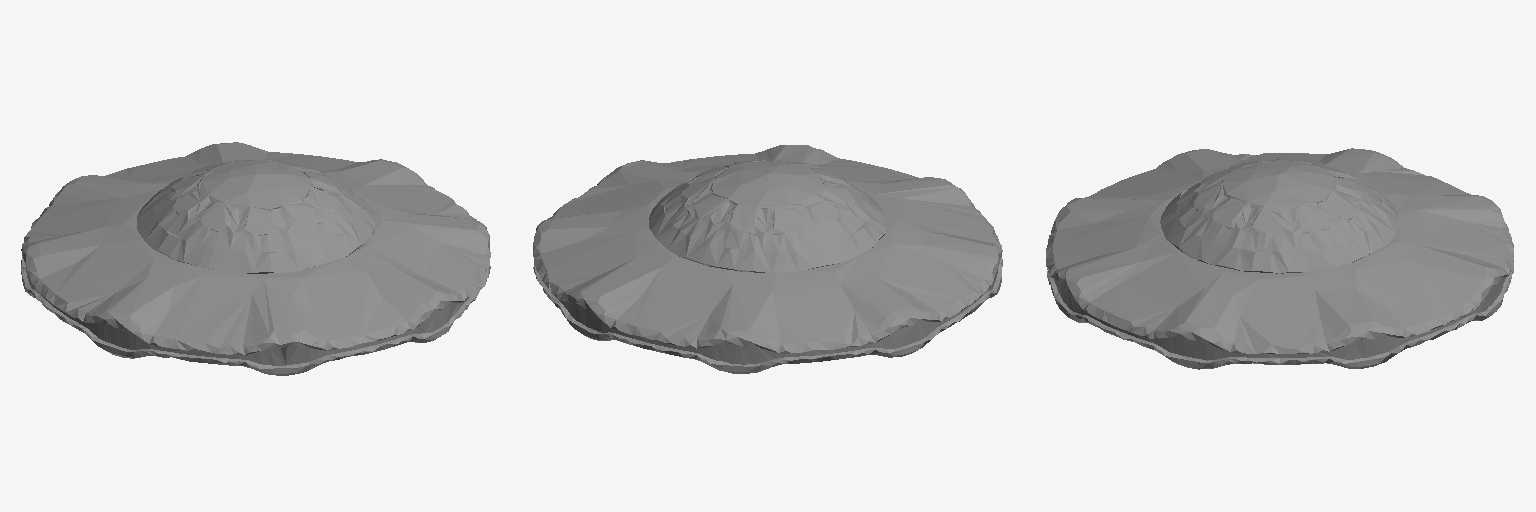
File: frame_055.obj
3 renders of one model, left to right at view 1: azimuth 30°, elevation 25°; view 2: azimuth 150°, elevation 25°; view 3: azimuth 270°, elevation 25°, orthographic.
Visible parts, largest first — view 1: 13884_UFO_Saucer_v1_l2; view 2: 13884_UFO_Saucer_v1_l2; view 3: 13884_UFO_Saucer_v1_l2.
Part boxes in pixels (x1,y1,x2,y2): 13884_UFO_Saucer_v1_l2: (21, 142, 490, 375); 13884_UFO_Saucer_v1_l2: (533, 145, 1002, 373); 13884_UFO_Saucer_v1_l2: (1046, 148, 1513, 369).
Size of the model in its own units: 12.69 by 4.88 by 12.7.